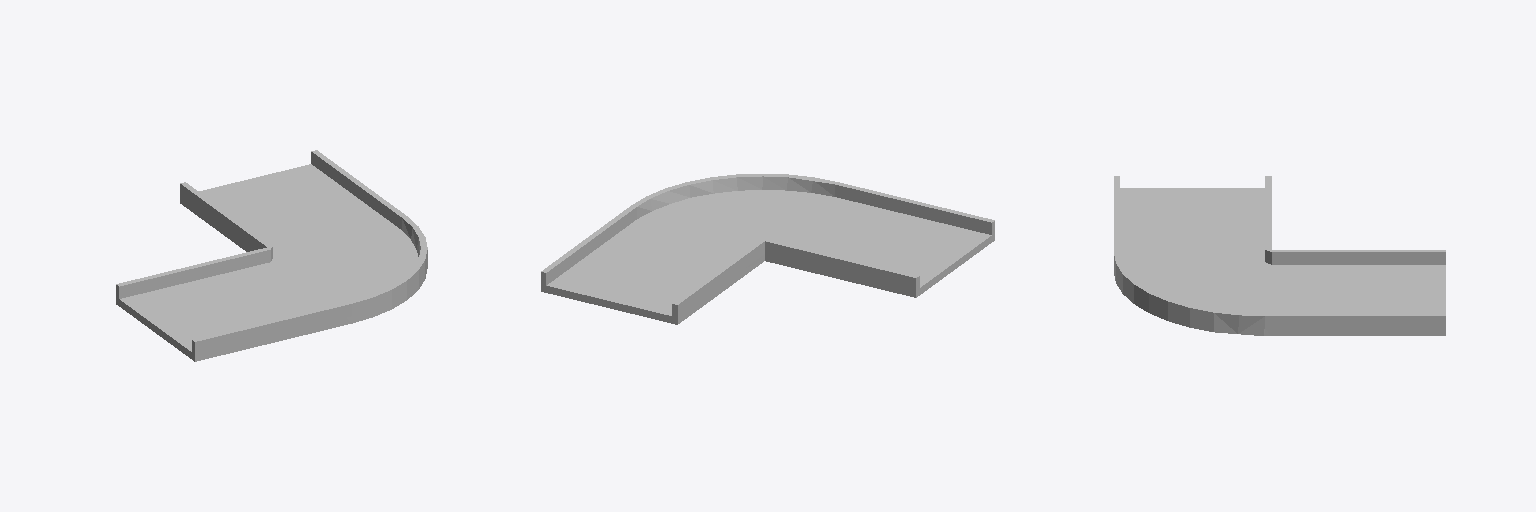
Rendered from Corner_Track.obj.
3 renders of one model, left to right at view 1: azimuth 30°, elevation 25°; view 2: azimuth 150°, elevation 25°; view 3: azimuth 270°, elevation 25°, orthographic.
Visible parts, largest first — view 1: Corner_Track; view 2: Corner_Track; view 3: Corner_Track.
Part boxes in pixels (x1,y1,x2,y2): Corner_Track: (116,150,427,361); Corner_Track: (541,174,994,324); Corner_Track: (1114,176,1445,335).
Size of the model in its own units: 41.32 by 2.72 by 41.27.